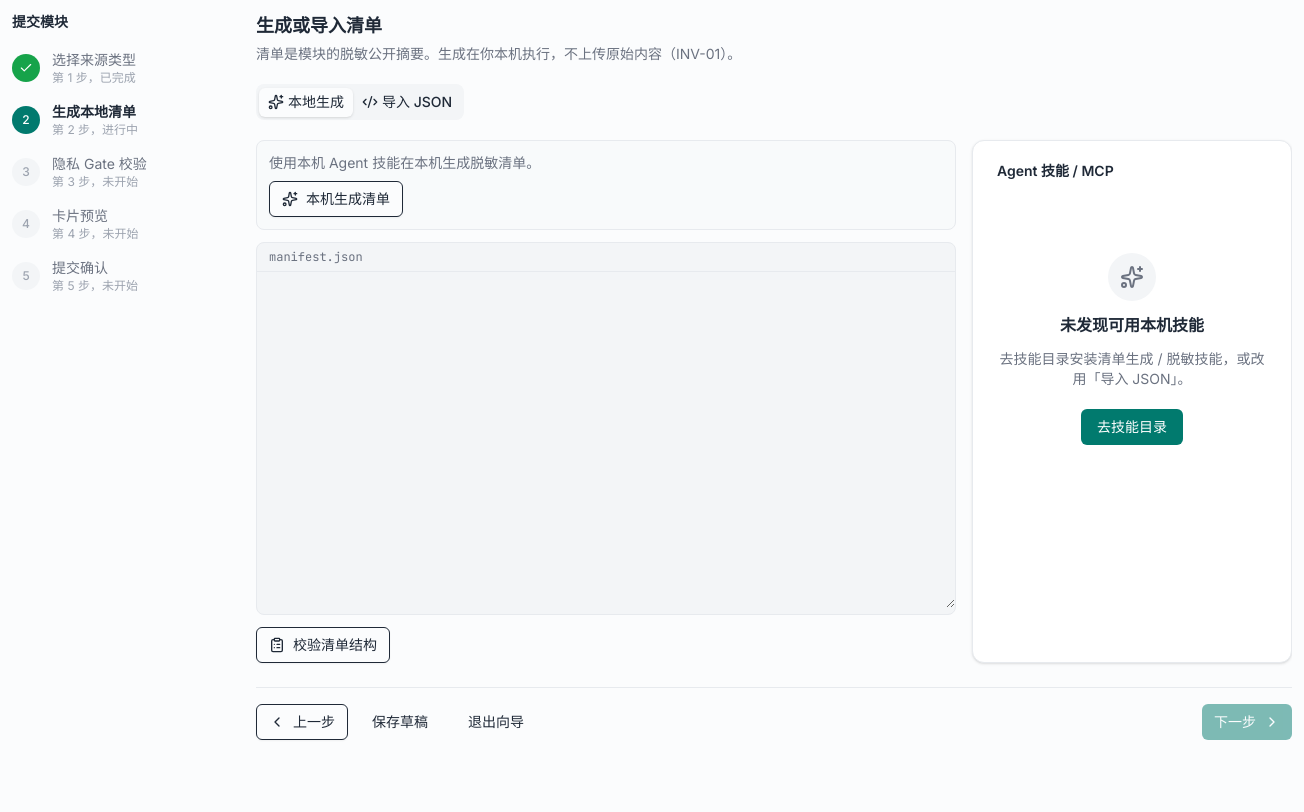
Test: SubmitWizard（PAGE-020~024 集成） › 第 3 步 block：扫描返回 block 时无「下一步」按钮、必须修订（INV-02 端到端）
This screenshot has width=1304, height=812.
Expected: the heading "生成或导入清单" is shown, top-left (256, 15), bottom-right (382, 36)
Click the button "本机生成清单" at x=336, y=199, box top-left (269, 181), bottom-right (403, 217)
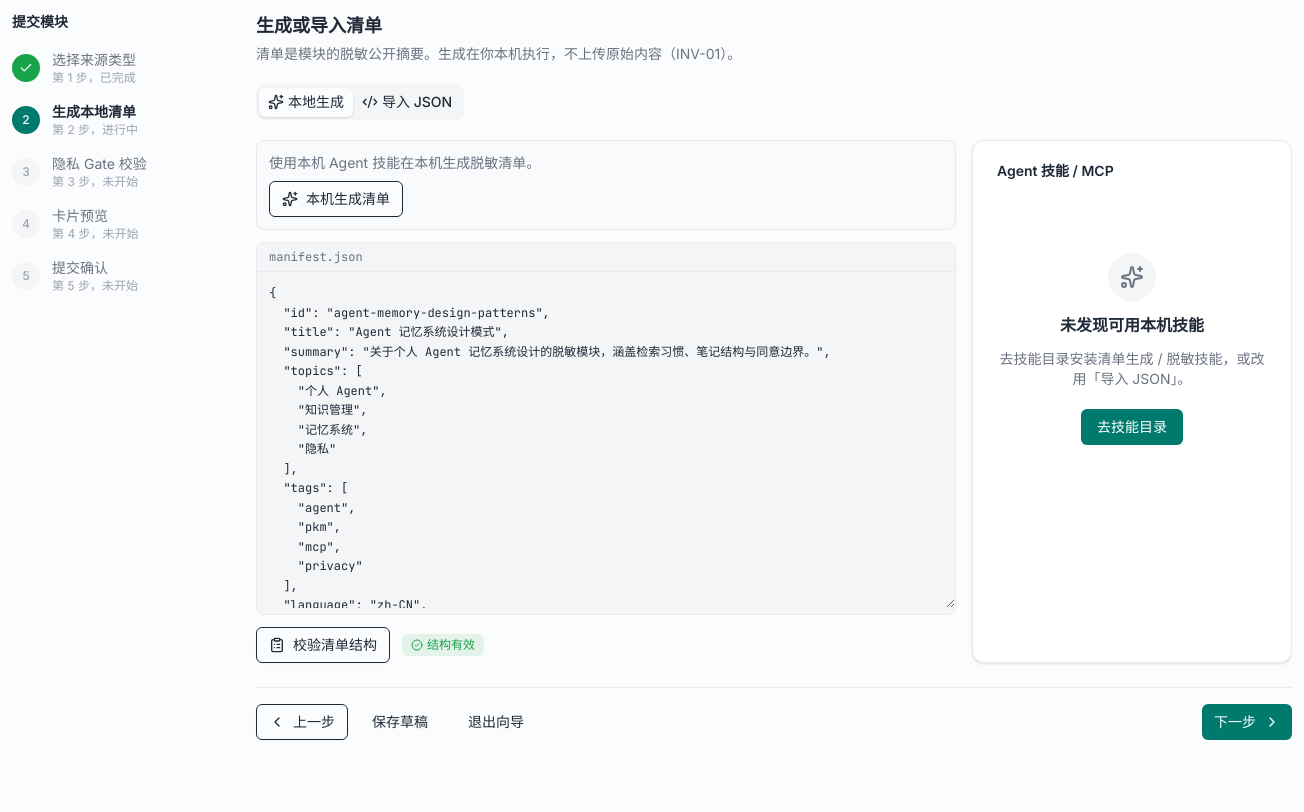
Now the text "结构有效" is shown, box top-left (427, 637), bottom-right (475, 653)
Click the button "下一步" at x=1247, y=722, box top-left (1202, 704), bottom-right (1292, 740)
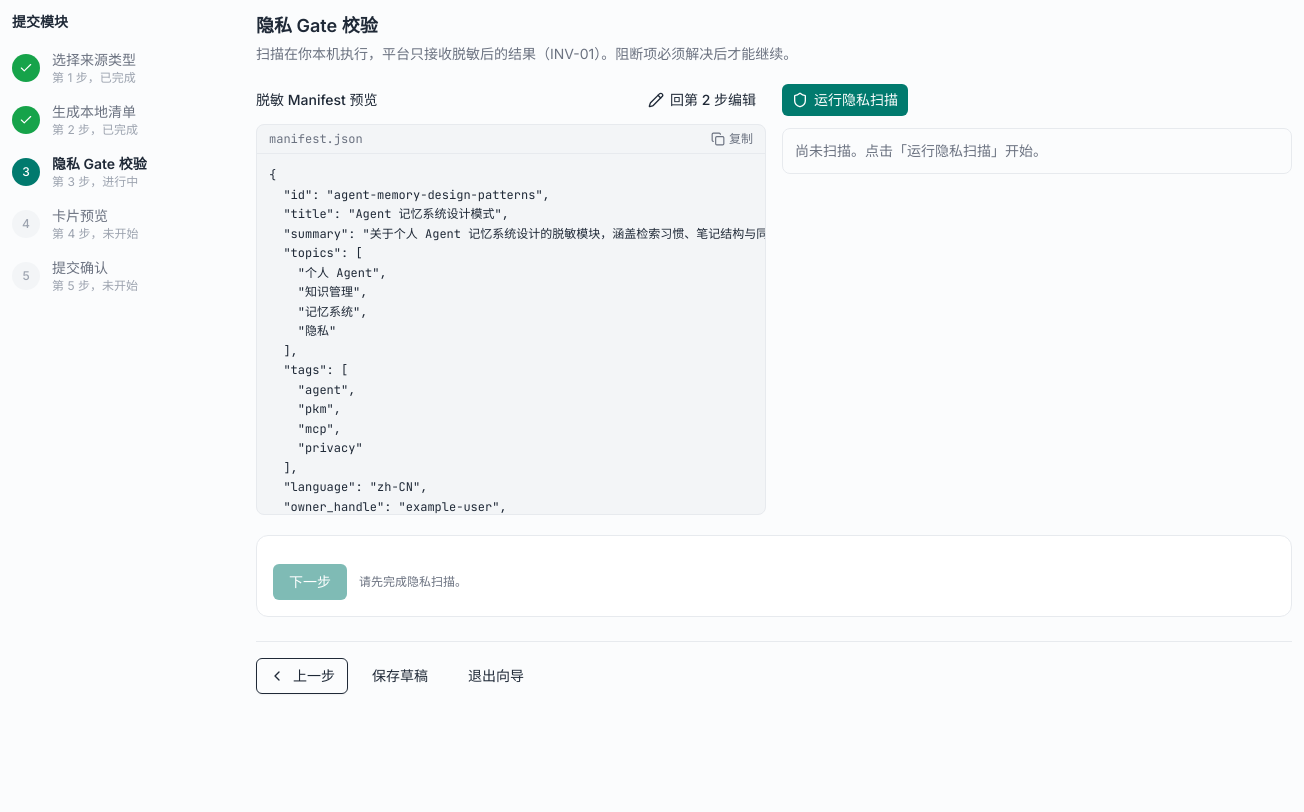
Now the heading "隐私 Gate 校验" is shown, box top-left (256, 15), bottom-right (378, 36)
Click the button "运行隐私扫描" at x=845, y=100, box top-left (782, 84), bottom-right (908, 116)
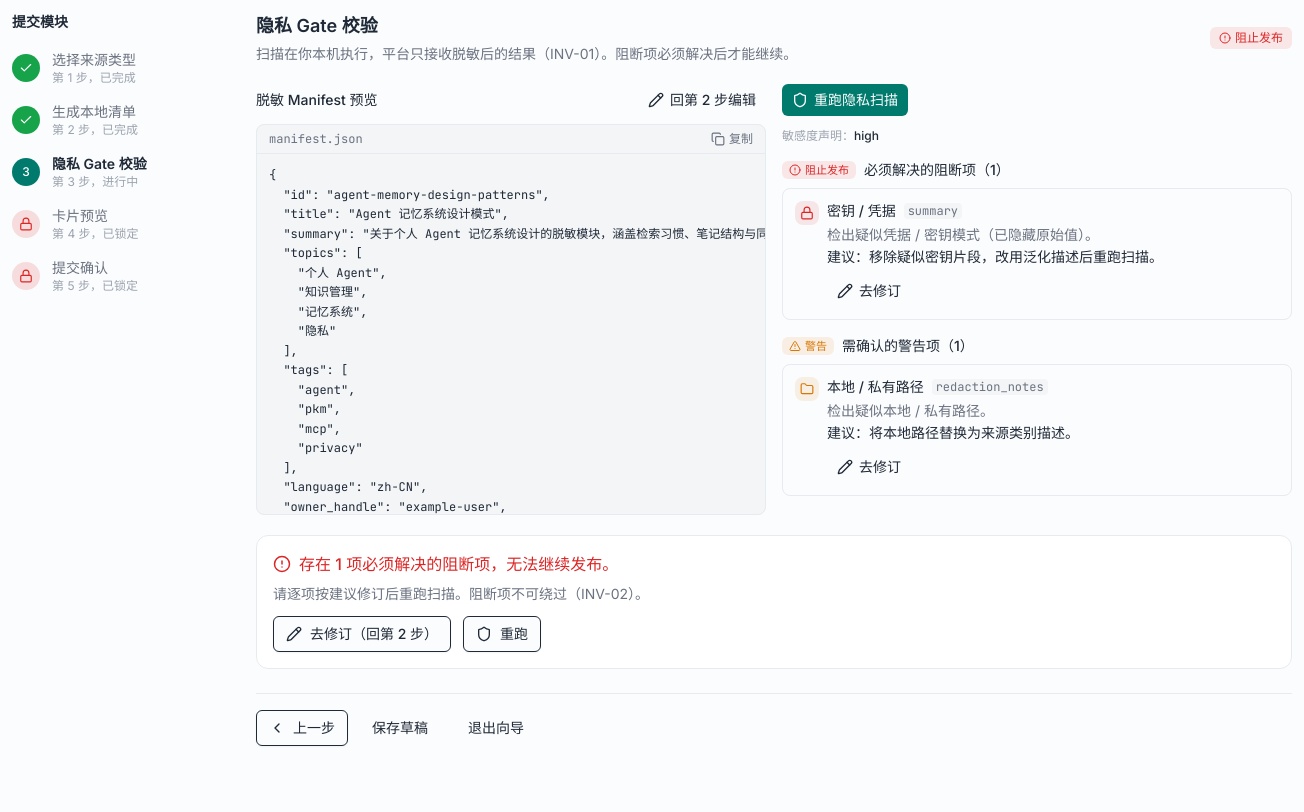
Now the text "必须解决的阻断项（1）" is shown, box top-left (864, 160), bottom-right (1010, 180)
Now the button "下一步" is gone
Now the button "去修订（回第 2 步）" is shown, box top-left (273, 616), bottom-right (451, 652)
